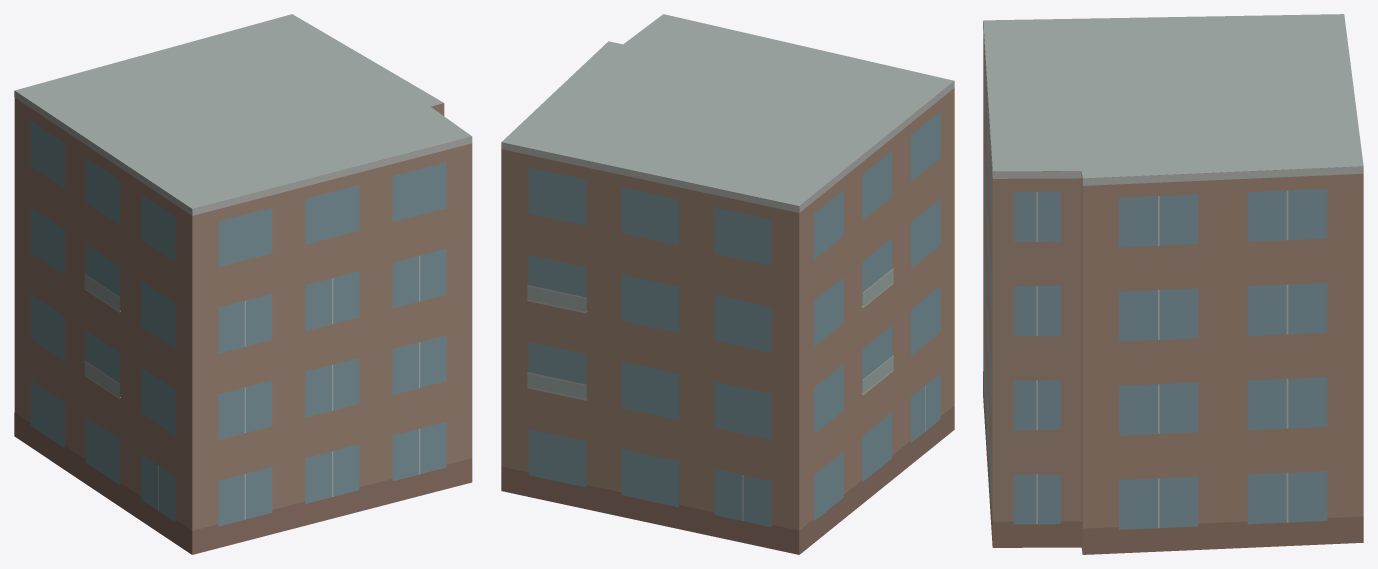
The model's file is survey-upis-32658380.glb.
The picture shows the model from 3 angles, left to right: view 1: azimuth 30°, elevation 25°; view 2: azimuth 150°, elevation 25°; view 3: azimuth 270°, elevation 25°; orthographic projection. The views are drawn at different scales.
Visible parts, largest first — view 1: survey-upis-32658380.tmp; view 2: survey-upis-32658380.tmp; view 3: survey-upis-32658380.tmp.
Part boxes in pixels (<box>): survey-upis-32658380.tmp: <box>14,14,472,554</box>; survey-upis-32658380.tmp: <box>501,14,954,554</box>; survey-upis-32658380.tmp: <box>983,14,1363,554</box>.
Size of the model in its own units: 11.43 by 12.2 by 11.18.
